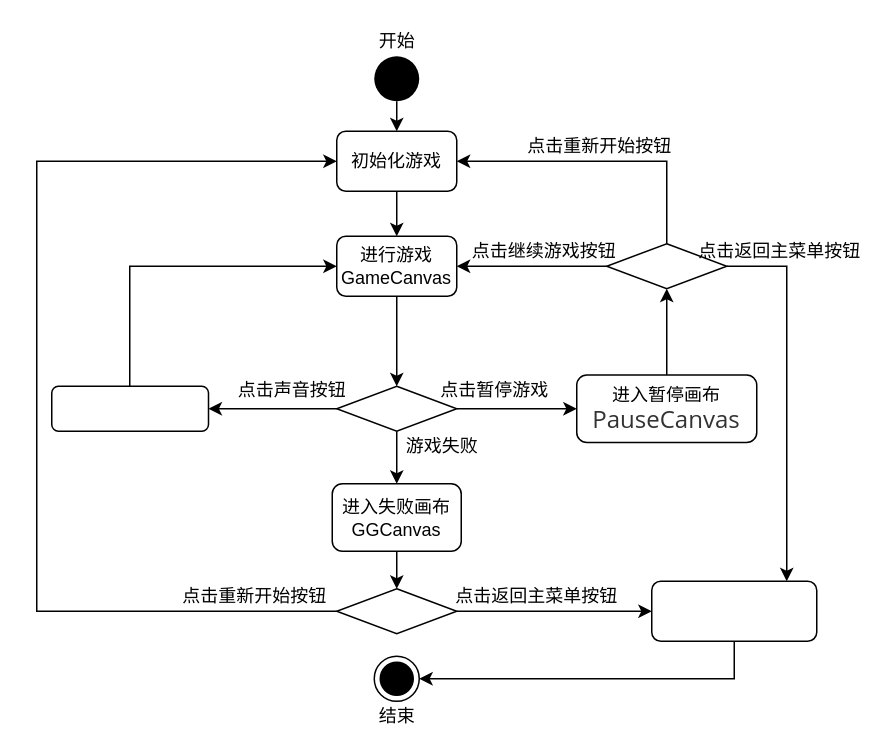
This 896x756 diagram has some shape labels left out. Each missing label, with the centre of its shape:
开启或关闭声音: pixel 129 408
返回主场景 HomePageScens: pixel 733 610
